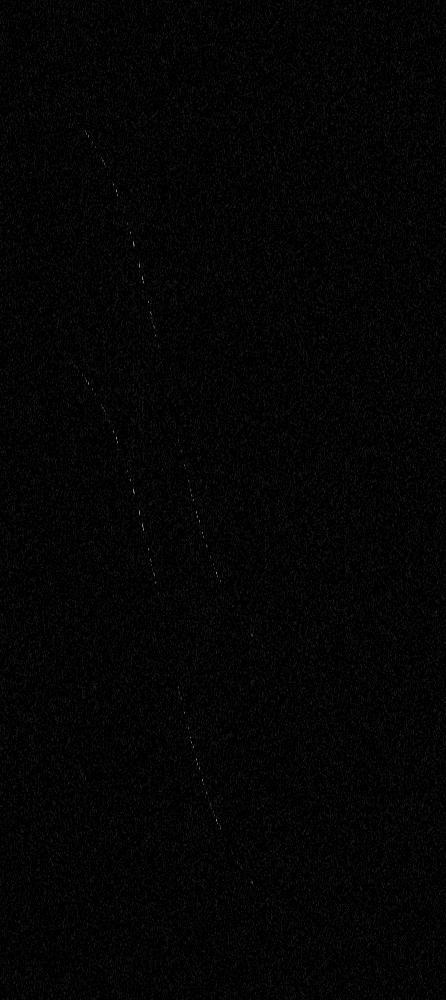signal: (0, 0, 445, 999)
